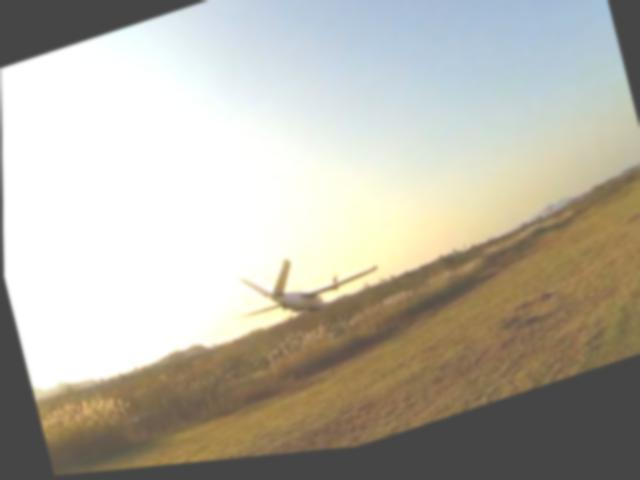uav: (215, 224, 397, 362)
